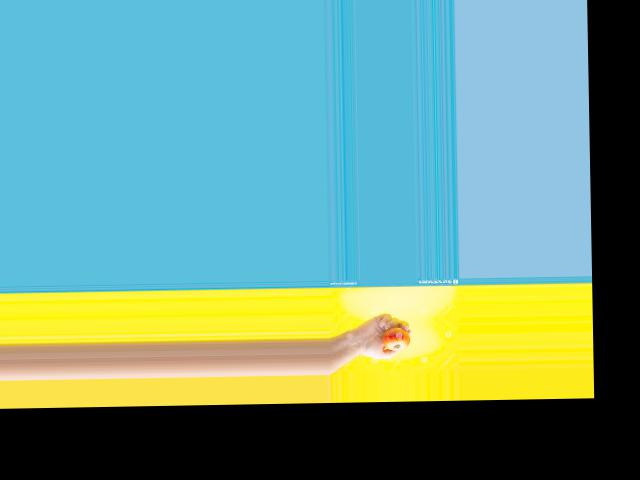tomato: (382, 326, 409, 350)
